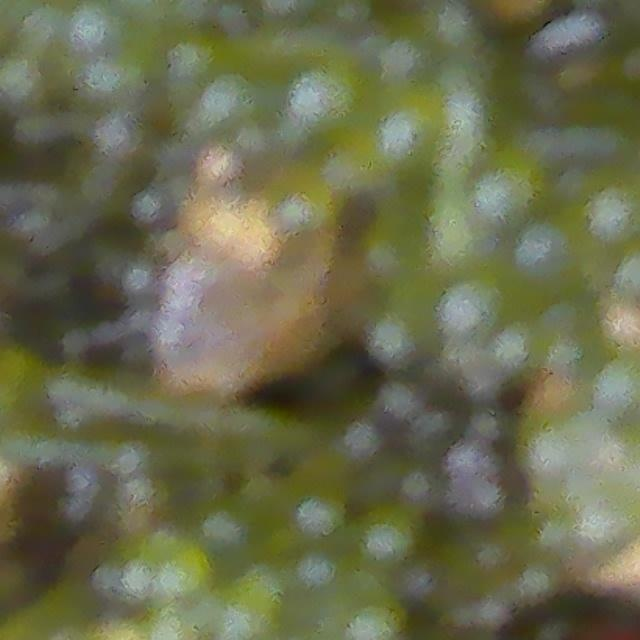SeaGrape: (510, 215, 592, 299), (439, 270, 512, 339)
